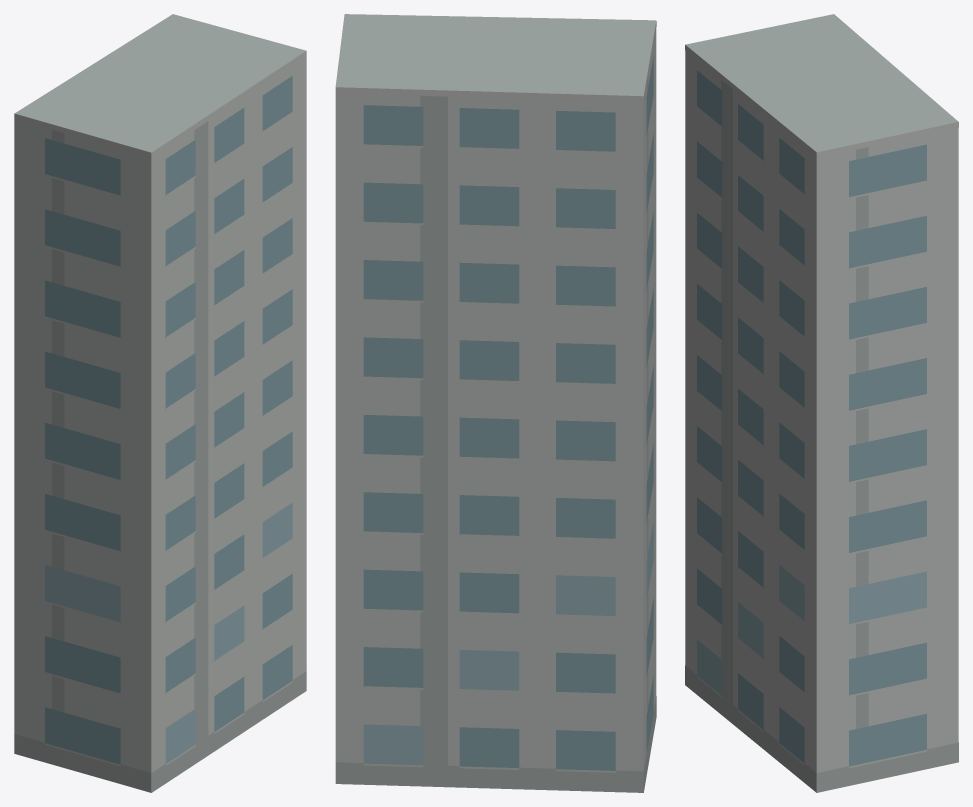
The model's file is survey-upis-33039262.glb.
3 renders of one model, left to right at view 1: azimuth 30°, elevation 25°; view 2: azimuth 150°, elevation 25°; view 3: azimuth 270°, elevation 25°, orthographic. The views are drawn at different scales.
Visible parts, largest first — view 1: survey-upis-33039262.tmp; view 2: survey-upis-33039262.tmp; view 3: survey-upis-33039262.tmp.
Boxes of the visible parts, x1,y1,x2,y2 form: survey-upis-33039262.tmp: [14, 14, 306, 792]; survey-upis-33039262.tmp: [335, 14, 656, 792]; survey-upis-33039262.tmp: [685, 14, 958, 792].
Bounding box in the file's own units: 12.73 × 27.45 × 10.64.
